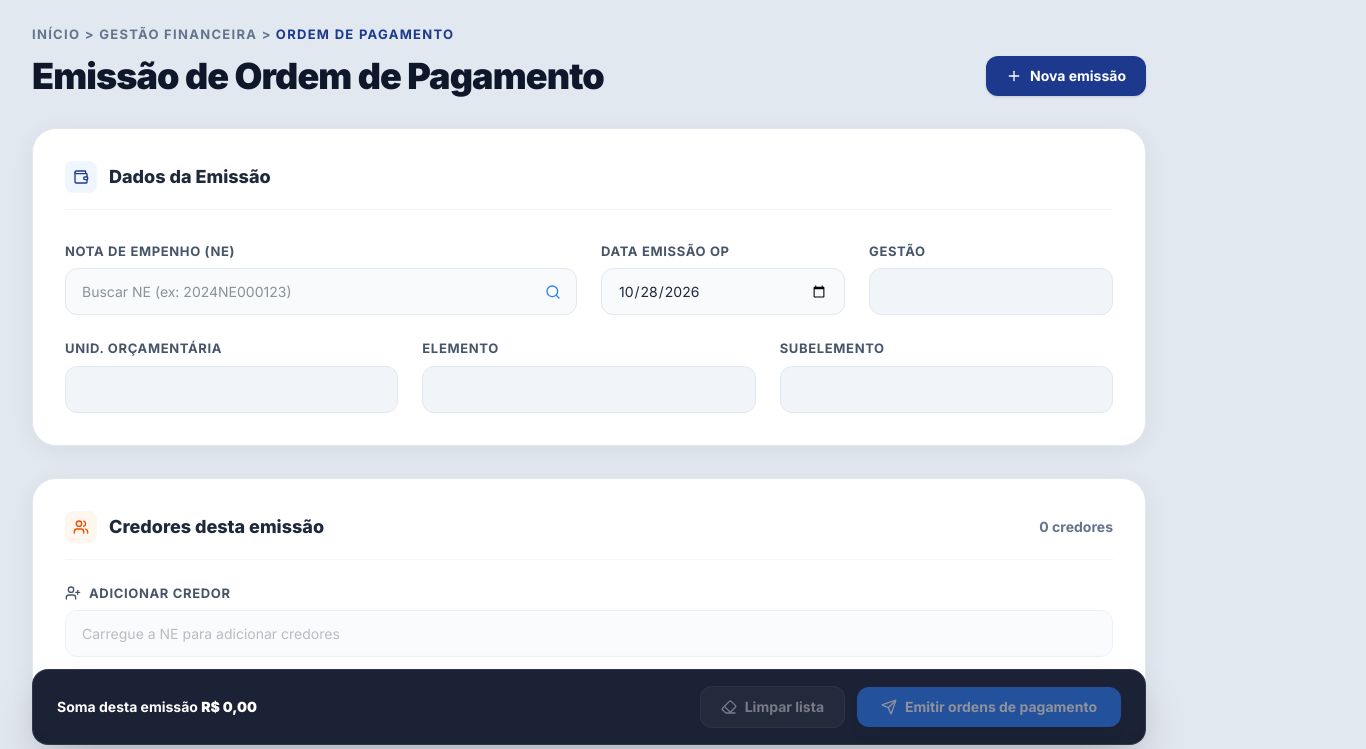
Test case: Emissão de OP com lista de credores (T35-B) › painel começa fechado com o resumo dos itens e abre ao clicar
Type "2026NE000001" into the dropdown labelled "Nota de Empenho (NE)" at {"x": 321, "y": 292}, box [65,268,577,315]
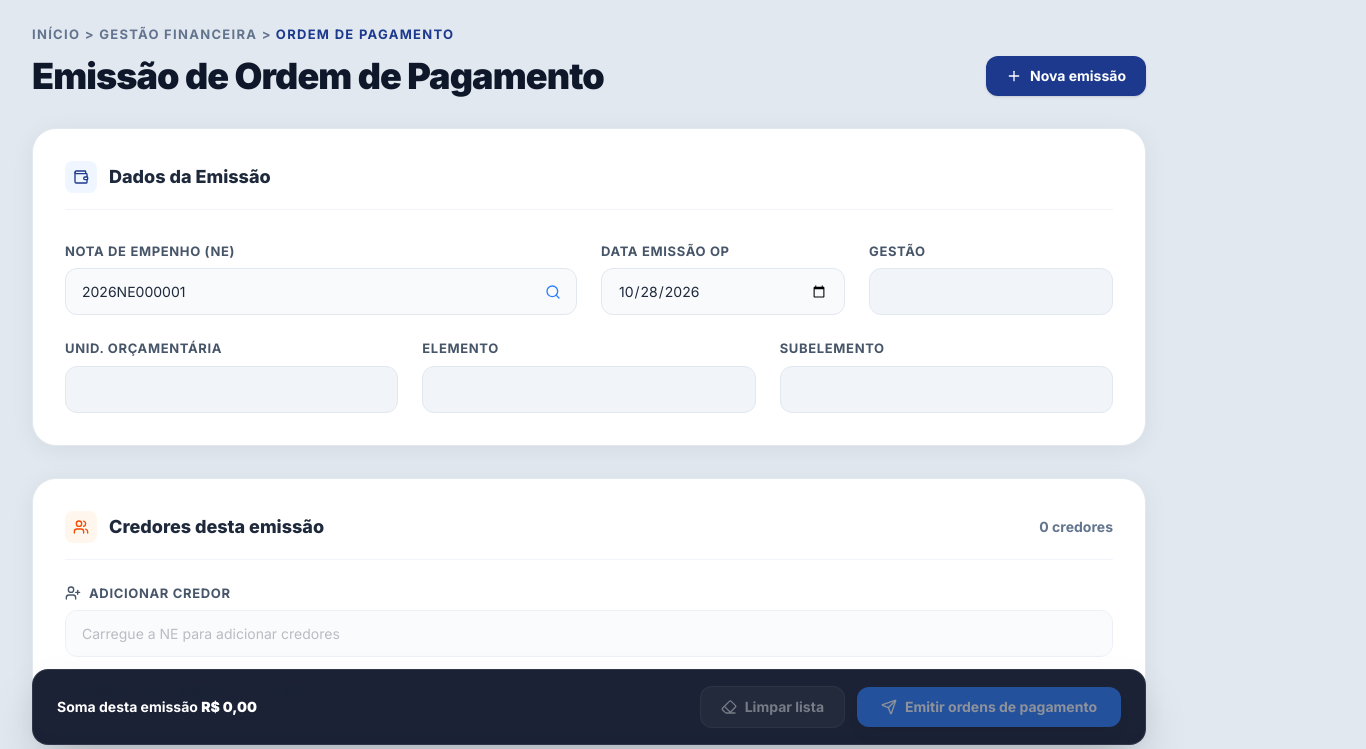
Click the button named "Carregar a NE" at {"x": 553, "y": 292}, box [537,276,569,308]
(page scrolled)
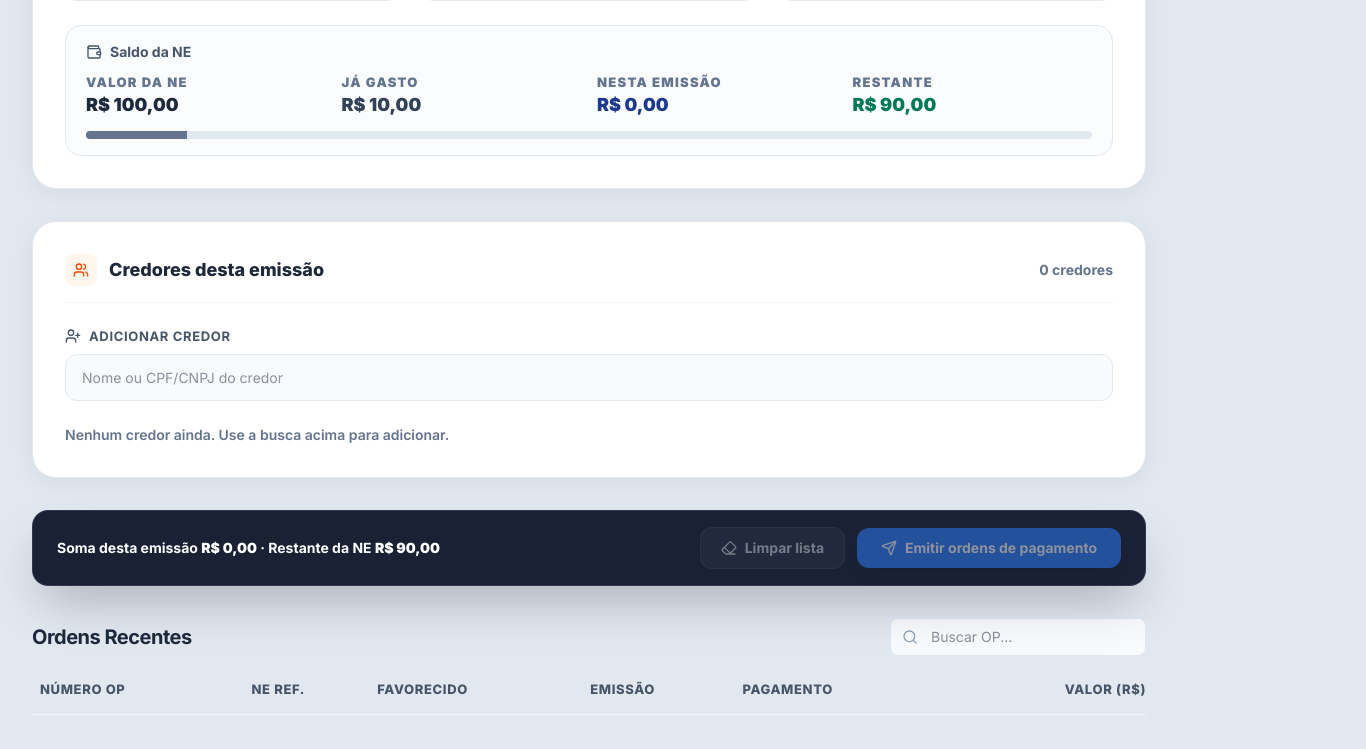
Expected: the element with test id "faixa-saldo-emissao" is shown, [65,25,1113,156]
Type "Ana" into the dropdown labelled "Adicionar credor" at {"x": 589, "y": 377}, box [65,354,1113,401]
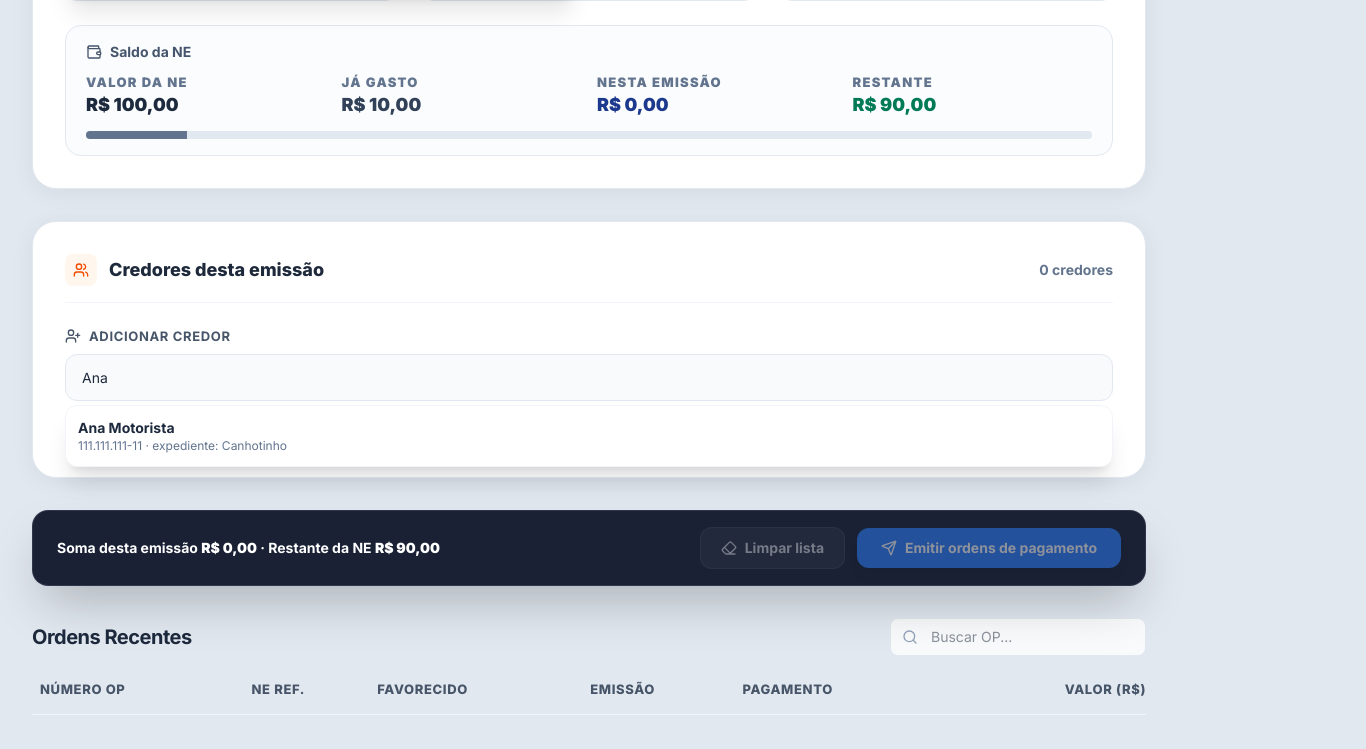
Press the mouse on the option "Ana Motorista 111.111.111-11 · expediente: Canhotinho" at {"x": 182, "y": 436}, box [78,419,287,453]
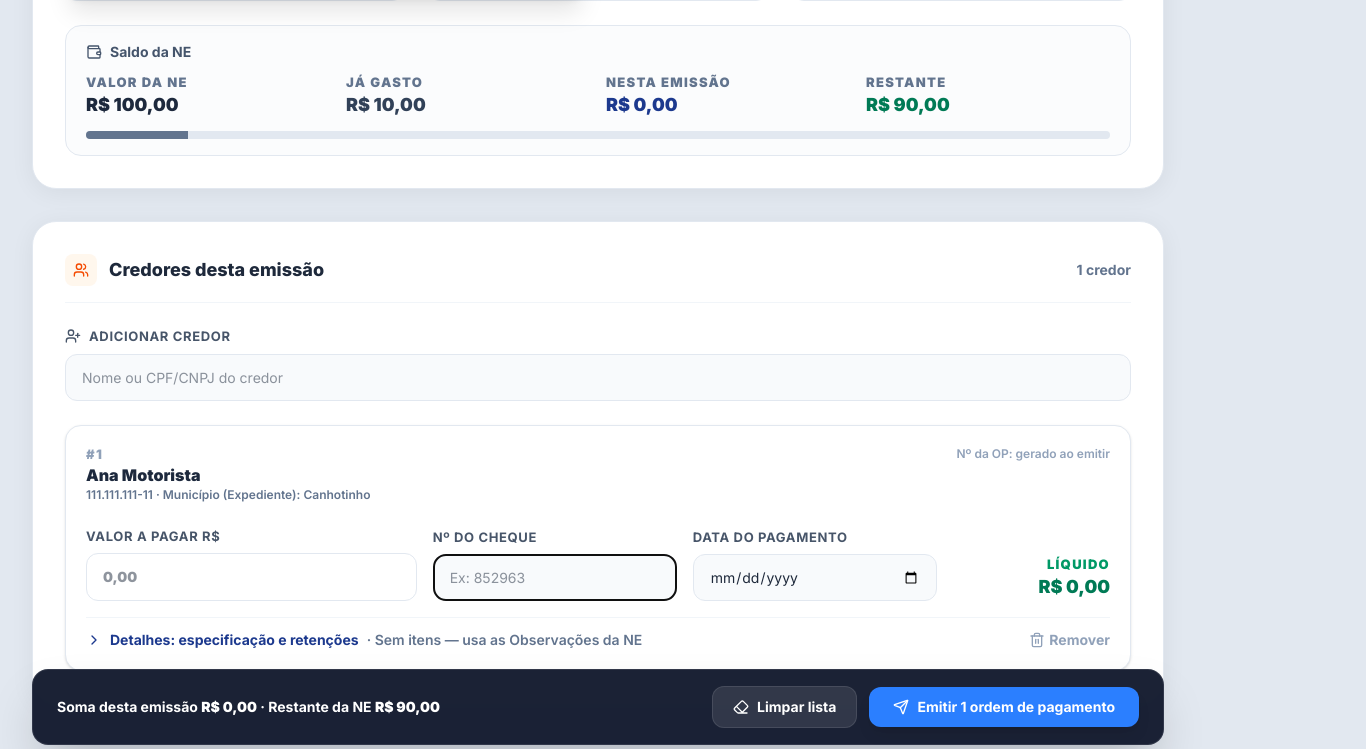
Expected: the button "Detalhes" shows "Sem itens — usa as Observações da NE"
Click the button "Detalhes" at {"x": 364, "y": 640}, box [86,630,642,650]
(page scrolled)
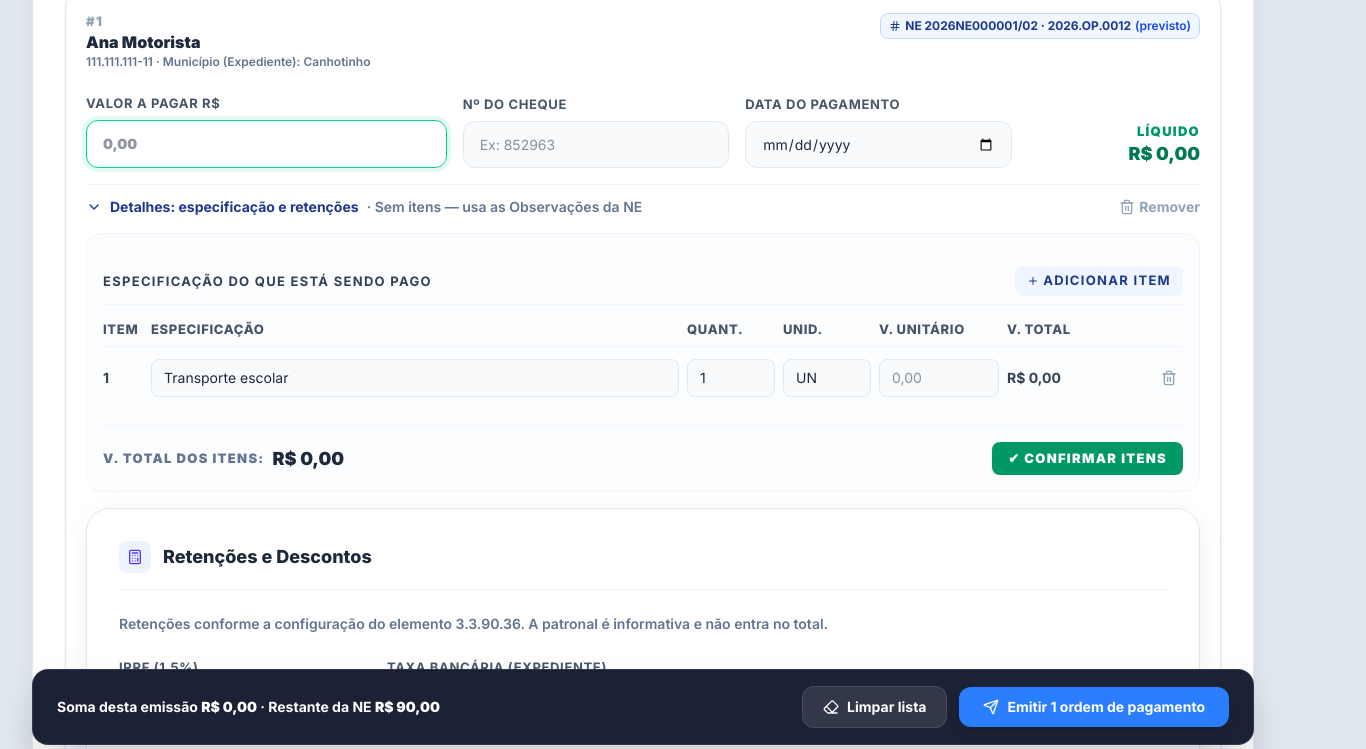
Expected: the button "Detalhes" is expanded, [86,197,642,217]
Expected: the 1st field showing "Transporte escolar" is shown, [151,359,679,397]
